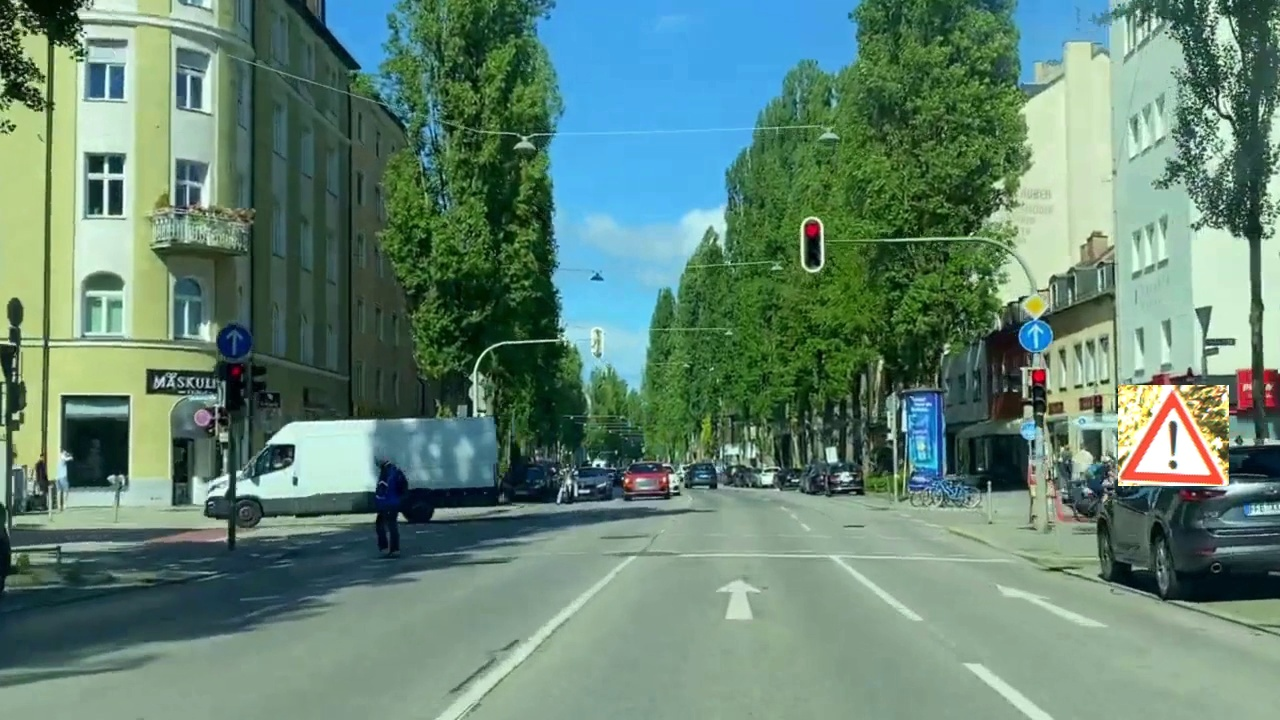Caution: (1118, 385, 1229, 486)
